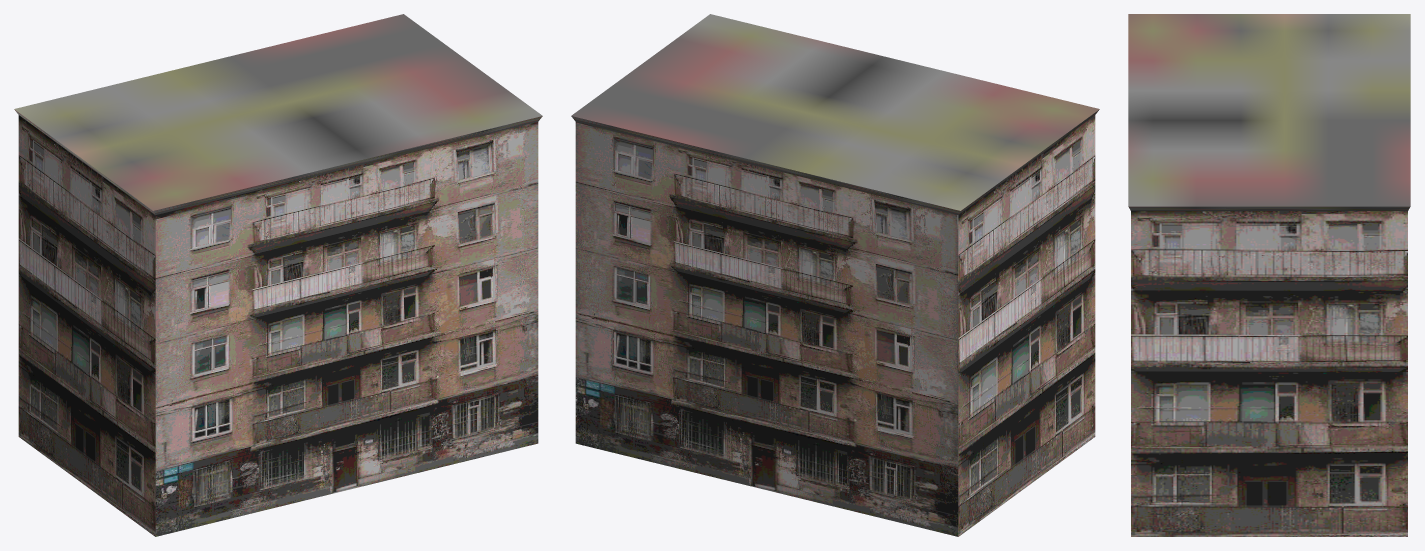
The model's file is house02.fbx.
3 views of the same model, side by side, from view 1: azimuth 30°, elevation 25°; view 2: azimuth 150°, elevation 25°; view 3: azimuth 270°, elevation 25° (orthographic).
Parts seen in each view (by area): view 1: Cube.005; view 2: Cube.005; view 3: Cube.005.
Boxes of the visible parts, x1,y1,x2,y2 form: Cube.005: (14, 14, 542, 536); Cube.005: (571, 14, 1099, 536); Cube.005: (1128, 14, 1410, 536).
Size of the model in its own units: 428 by 344 by 265.
2 materials, 2 textured.
